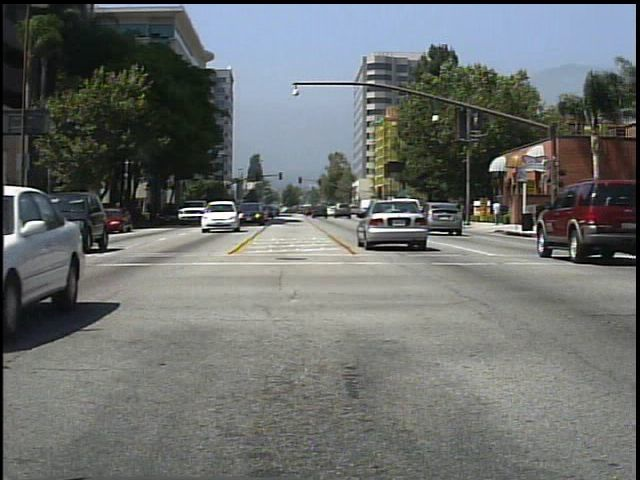person: (448, 194, 465, 229), (492, 196, 504, 228)
